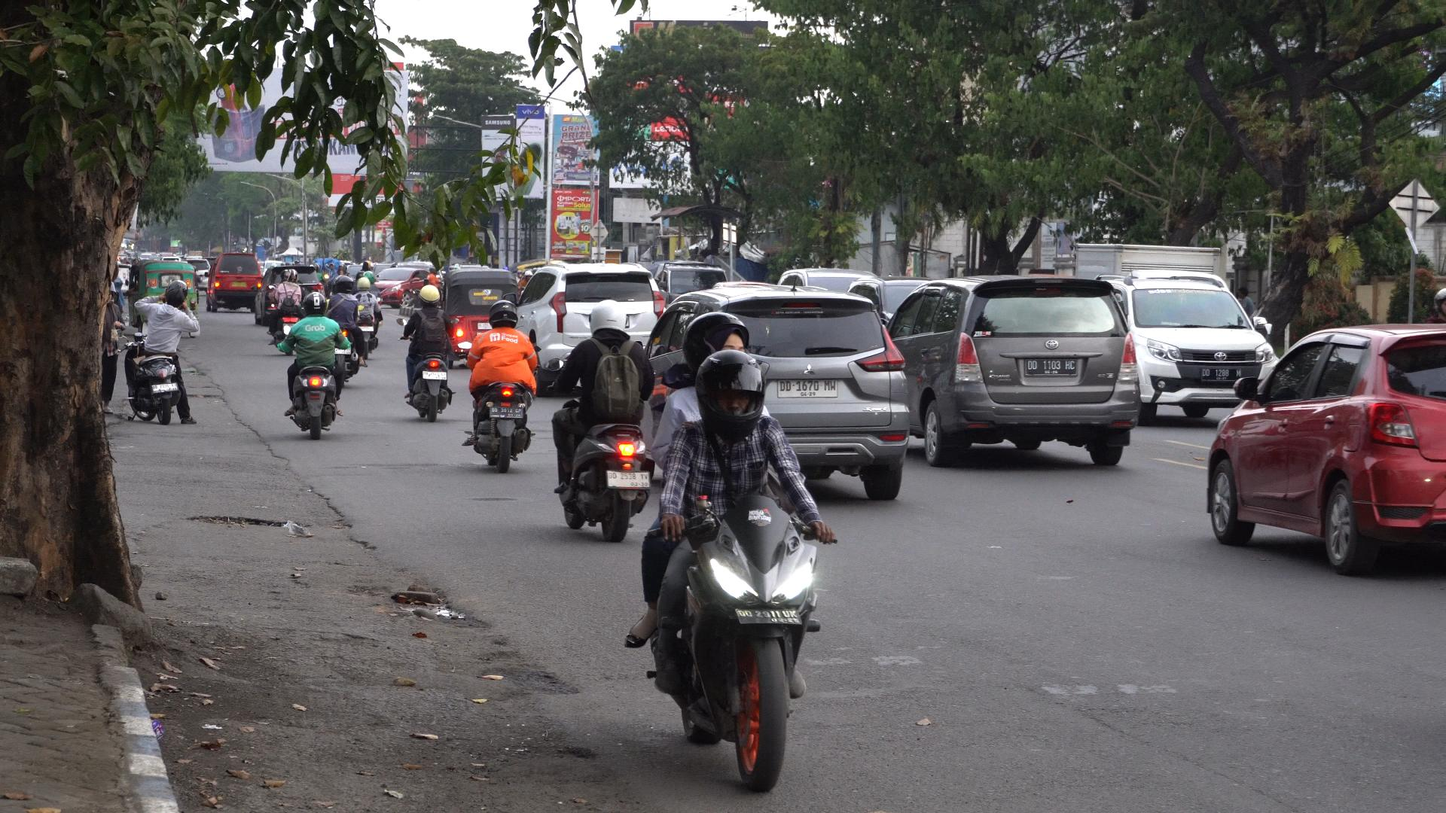number-plate: (733, 607, 804, 627)
